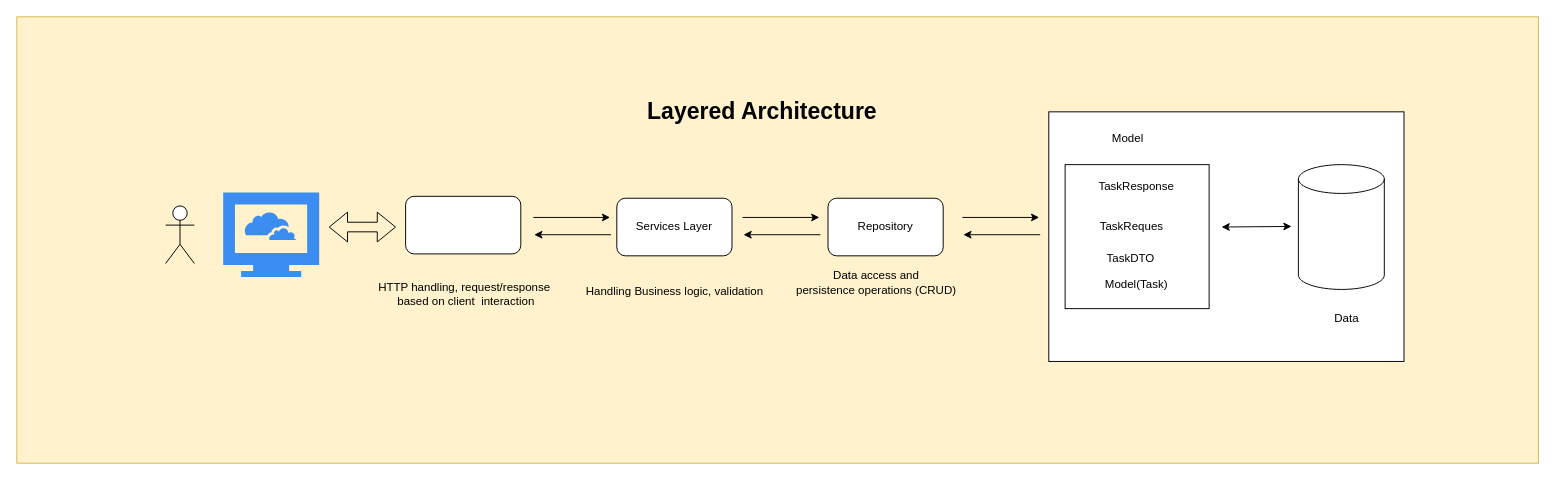
Some shapes in this 1555 by 480 pixel diagram are drawn without their labels. Here are the shapes that lost their labels. From the top down, the centre of each, then its label:
[179,234]: Client
[463,224]: Controller
